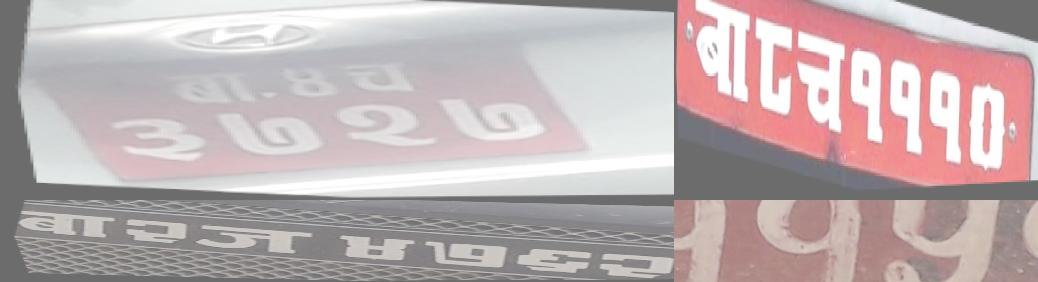0: (961, 68, 1009, 188)
1: (842, 32, 892, 157), (883, 50, 933, 174), (924, 57, 970, 180)
2: (314, 100, 448, 157), (574, 250, 674, 280), (101, 216, 200, 246)
3: (738, 200, 871, 282), (81, 108, 222, 171), (674, 200, 737, 282)
4: (312, 232, 427, 263), (264, 63, 346, 102)
6: (863, 200, 1006, 282), (496, 245, 604, 275)
7: (417, 87, 572, 147), (194, 109, 333, 163), (397, 238, 521, 270)
8: (746, 4, 798, 127)
ba: (686, 0, 756, 114), (145, 66, 260, 108), (3, 209, 126, 240)
cha: (790, 17, 850, 151), (324, 56, 434, 104)
ja: (173, 223, 323, 256)
